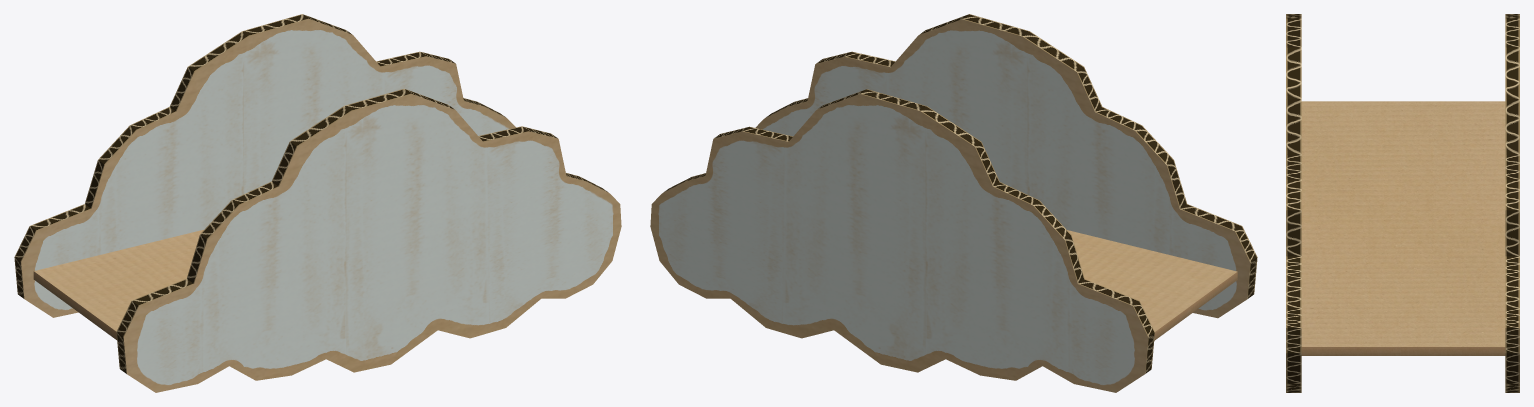
File: Moving Platform Cloud.fbx
The picture shows the model from 3 angles, left to right: view 1: azimuth 30°, elevation 25°; view 2: azimuth 150°, elevation 25°; view 3: azimuth 270°, elevation 25°; orthographic projection. The views are drawn at different scales.
Visible parts, largest first — view 1: Moving_Cloud; view 2: Moving_Cloud; view 3: Moving_Cloud.
Part boxes in pixels (x1,y1,x2,y2): Moving_Cloud: (14,14,621,392); Moving_Cloud: (650,14,1257,392); Moving_Cloud: (1286,14,1519,392).
Bounding box in the file's own units: 0.9083 × 0.463 × 0.3454.
Materials: 1 (1 with a texture image).
